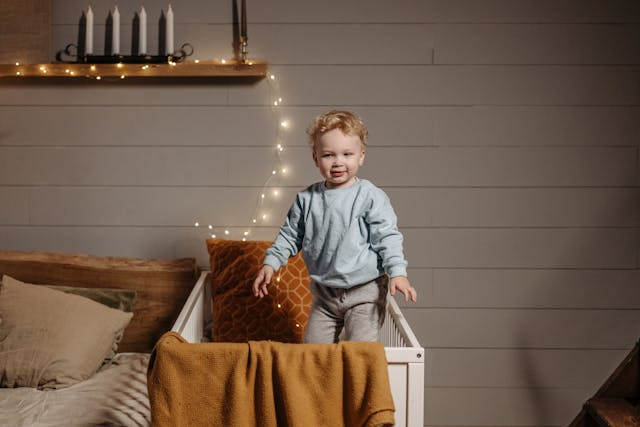baby: (253, 110, 416, 342)
crib: (380, 298, 424, 426)
